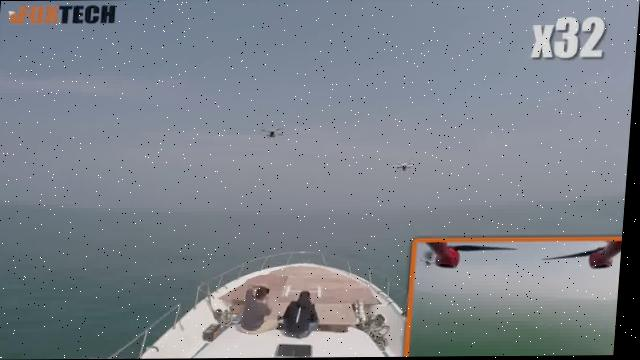drone: (395, 151, 422, 184), (259, 119, 289, 143)
